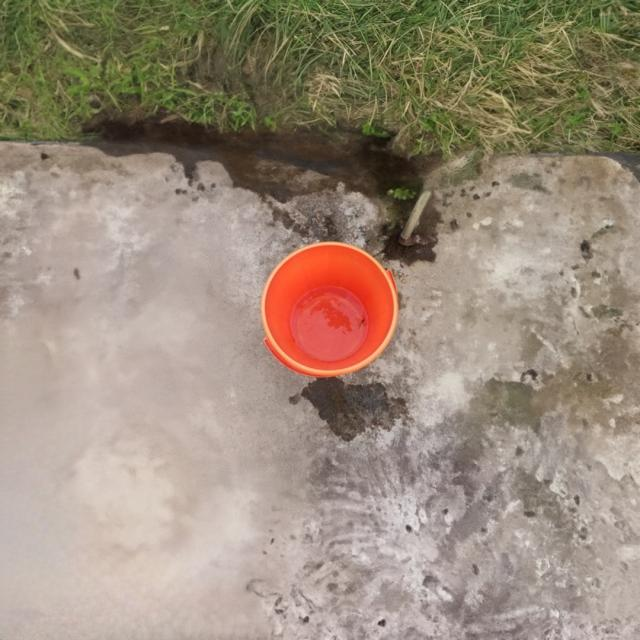Breeding Place: (52, 110, 451, 277), (238, 211, 445, 409)
